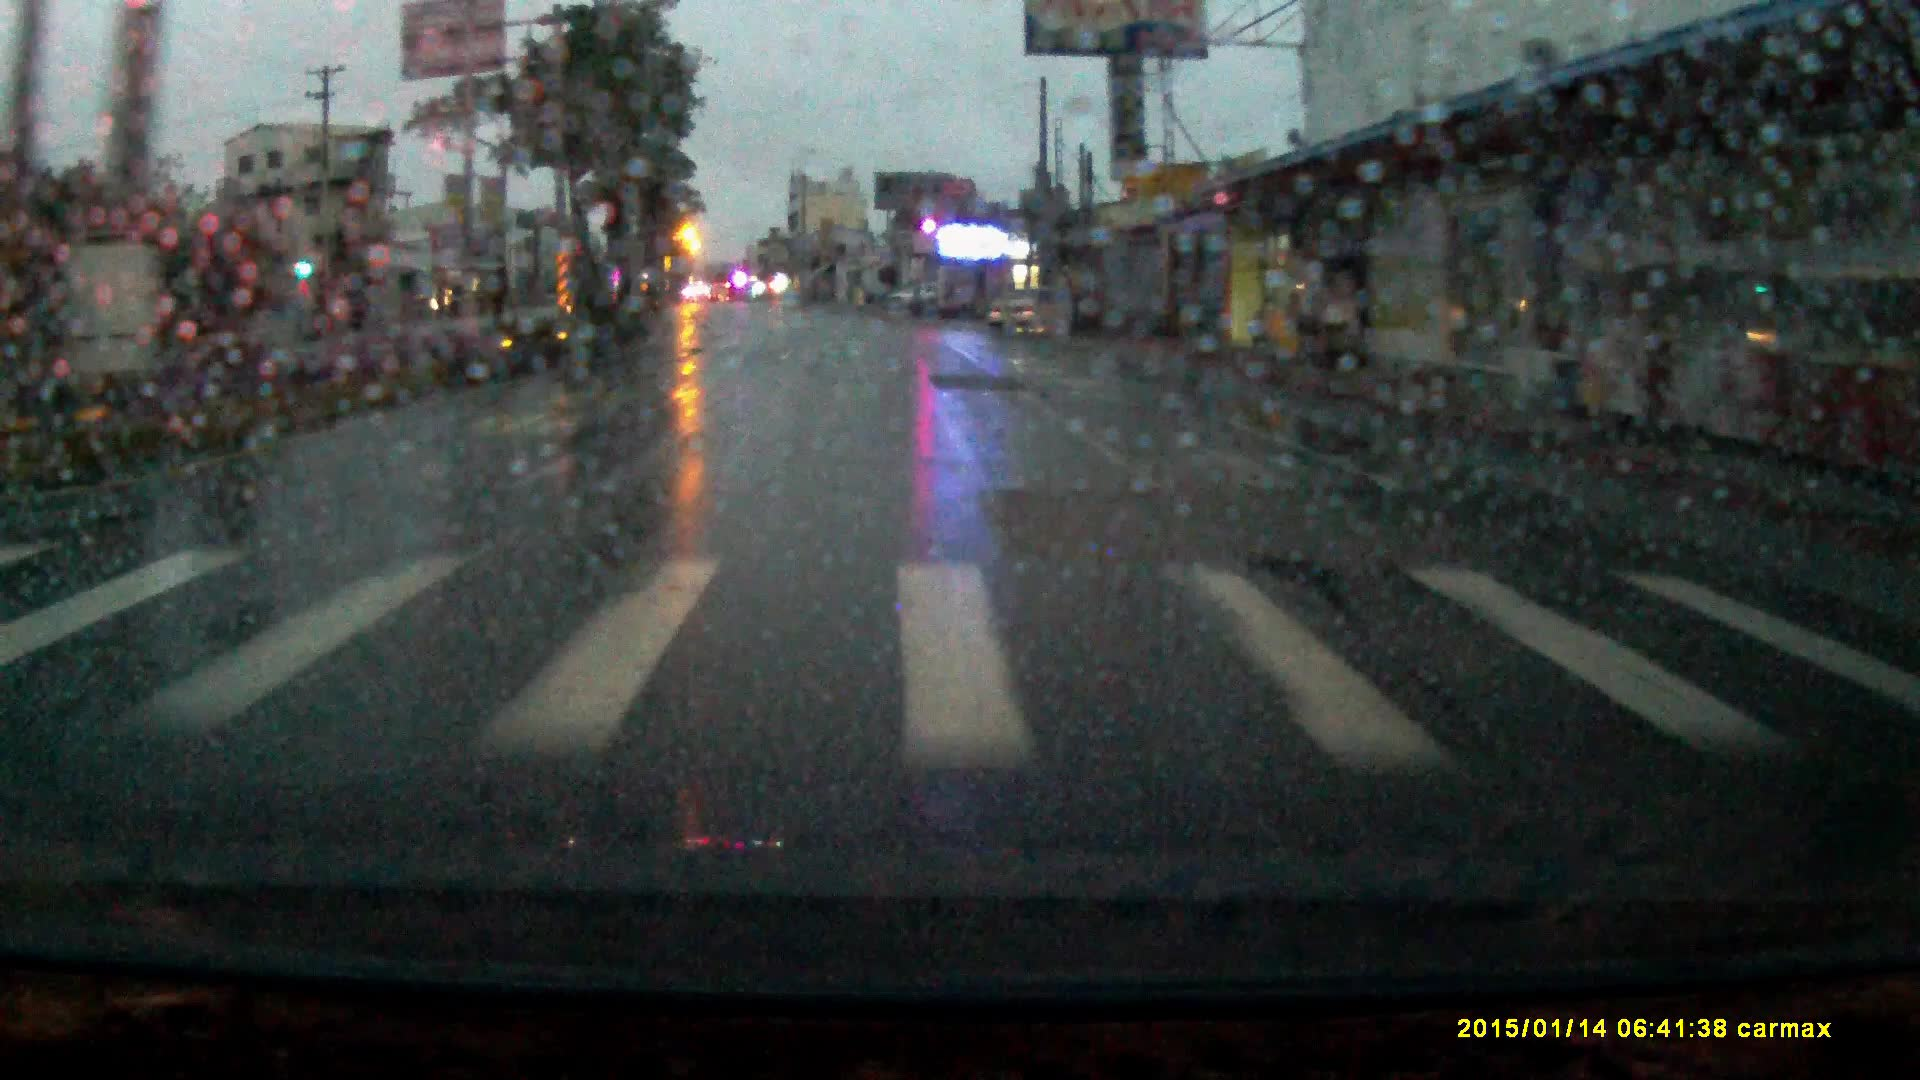vehicle: (990, 286, 1076, 332), (887, 278, 940, 307)
